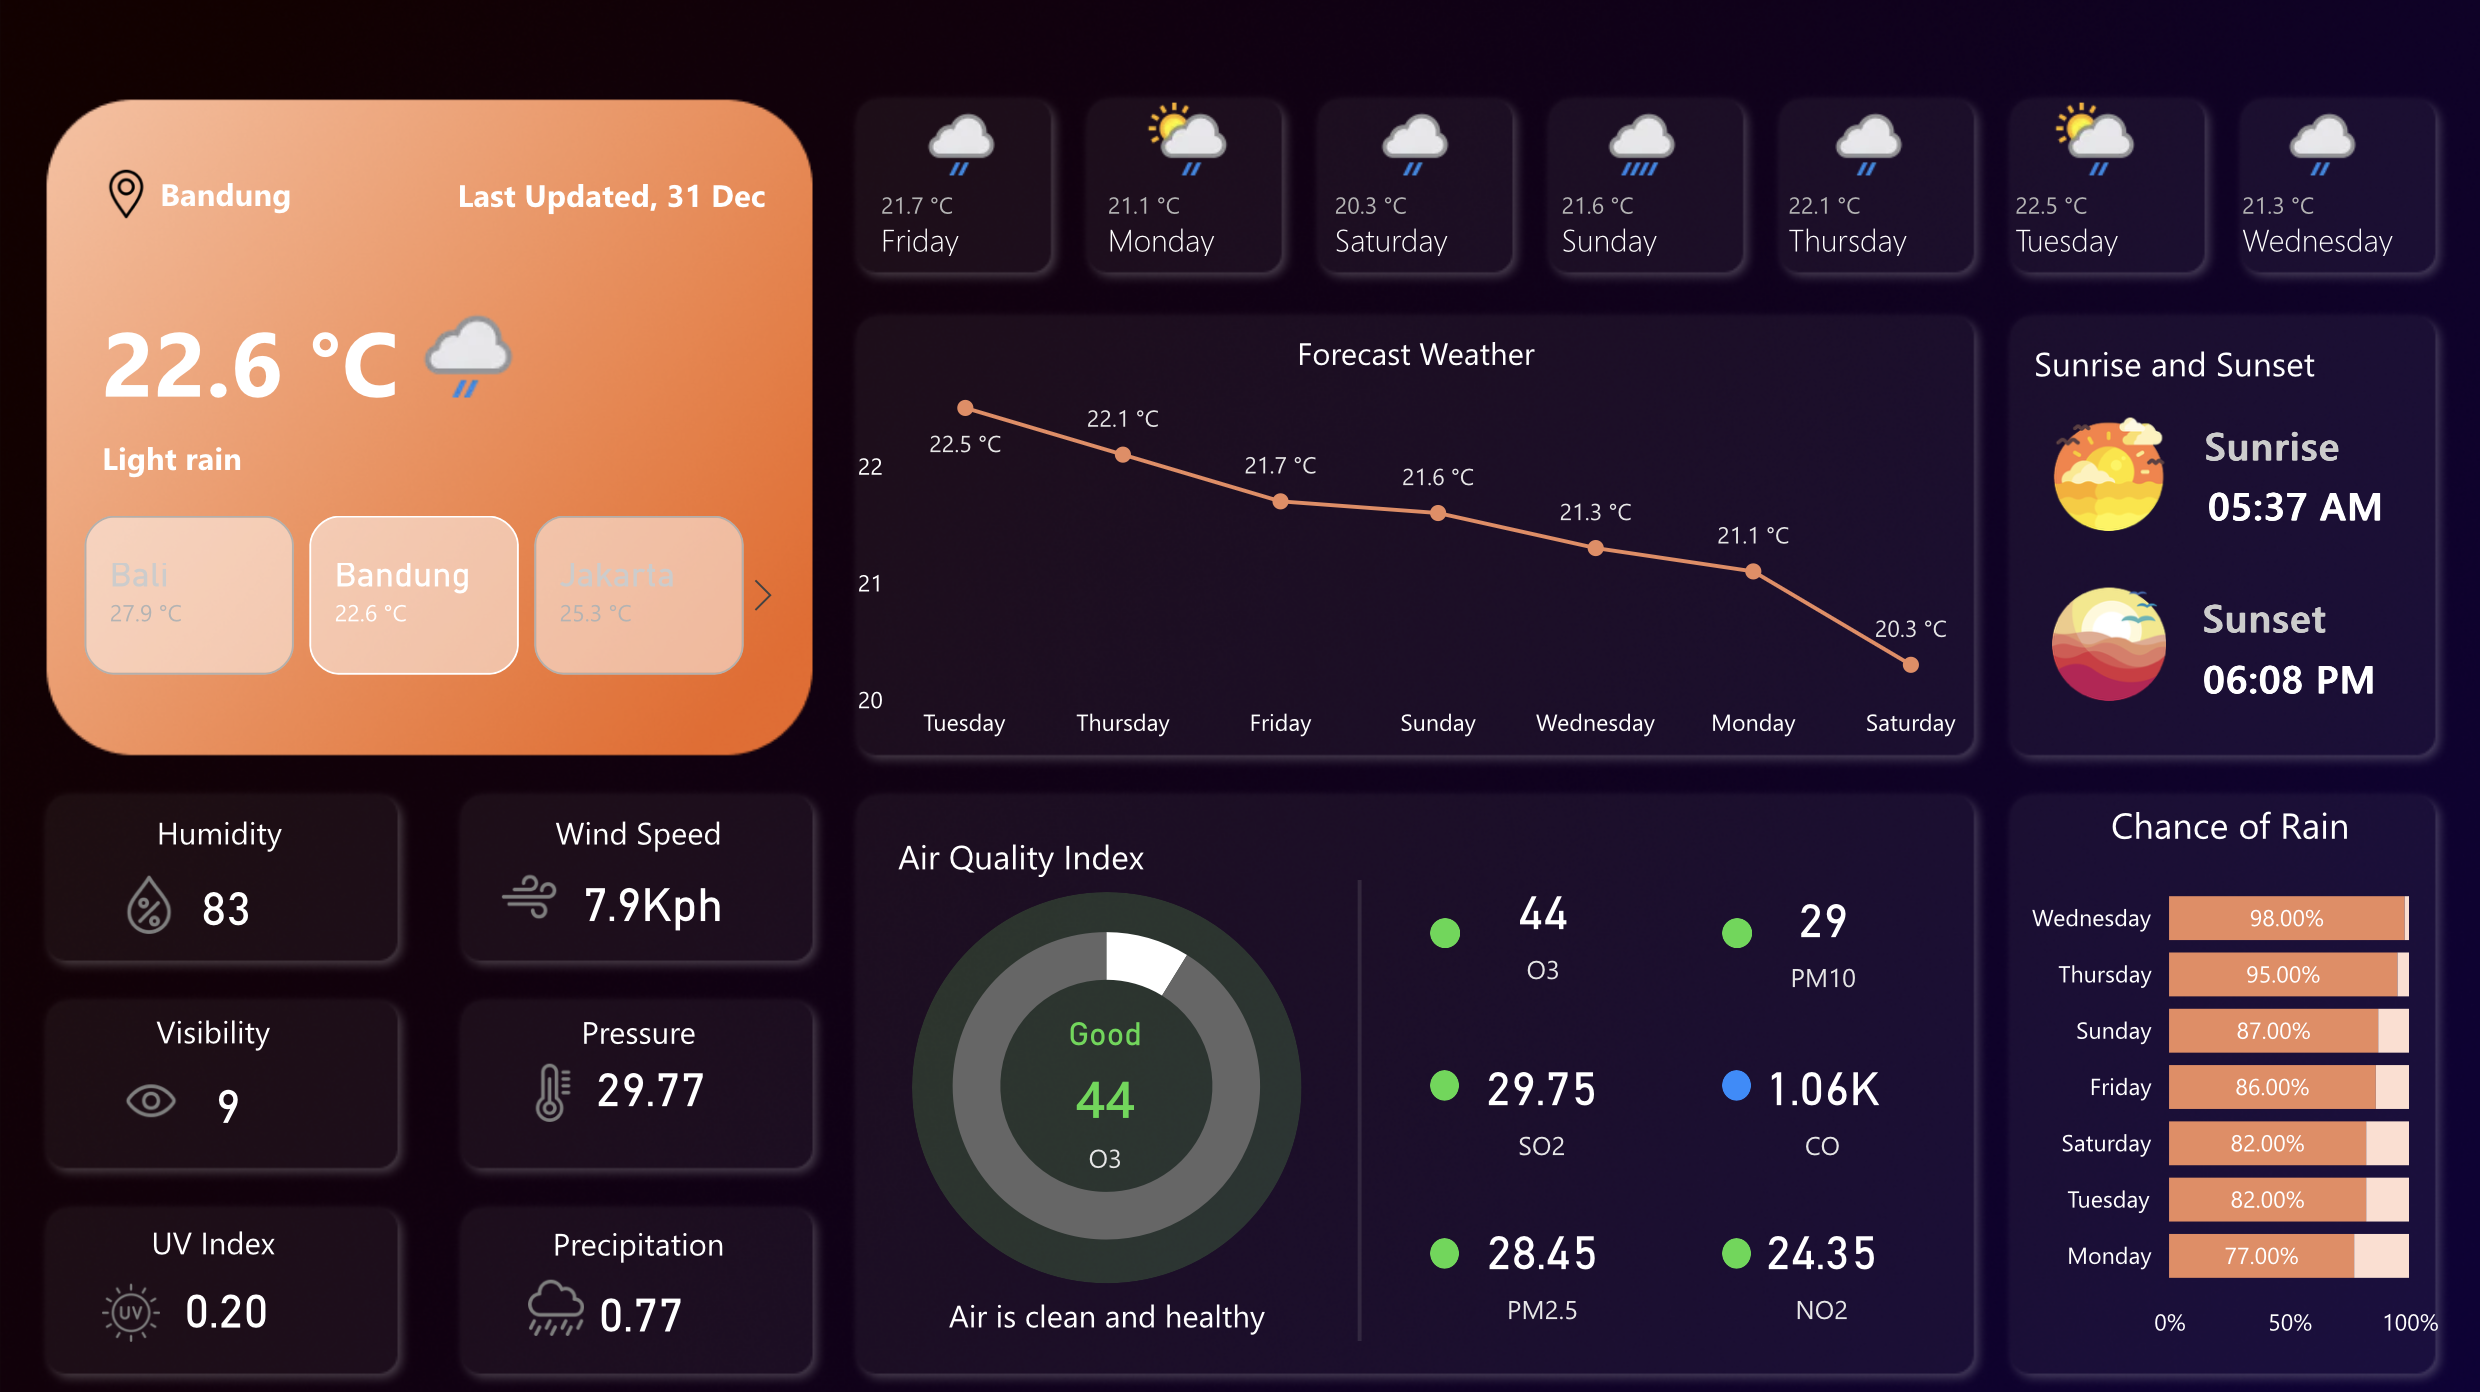

The page's visual inventory and layout, read from the dashboard file:
{"tool":"powerbi","page":{"name":"Page 1","canvas":[1280,720],"ordinal":0},"visuals":[{"type":"advancedSlicerVisual","fields":{"Values":["Location.location.name"],"Label":["_Measures.Curr_temp_C"]},"box":[18.6,261.4,390,92.9],"z":0},{"type":"shape","box":[52.5,149.3,373.3,71.7],"z":1000},{"type":"shape","box":[52.5,209.3,383.3,53.3],"z":2000},{"type":"shape","box":[82.5,73.8,155,52.5],"z":3000},{"type":"shape","box":[207.5,73.8,187.5,53.8],"z":4000},{"type":"shape","box":[18.2,410.9,189.1,37.3],"z":5000},{"type":"shape","box":[18.2,511.8,182.7,40],"z":6000},{"type":"shape","box":[18.2,620,182.7,40.9],"z":7000},{"type":"shape","box":[239.1,411.8,180,34.5],"z":8000},{"type":"shape","box":[239.1,519.1,180,26.4],"z":9000},{"type":"shape","box":[239.1,623.6,180,33.6],"z":10000},{"type":"card","fields":{"Values":["Sum(Current.current.humidity)"]},"box":[52.8,442.2,128.3,50.6],"z":11000},{"type":"card","fields":{"Values":["_Measures.Wind_Speed"]},"box":[270,442.7,132.7,46.4],"z":12000},{"type":"card","fields":{"Values":["Sum(Current.current.vis_km)"]},"box":[52.8,542.2,130,54.4],"z":13000},{"type":"card","fields":{"Values":["Sum(Current.current.uv)"]},"box":[52.8,654.4,128.3,42.8],"z":14000},{"type":"card","fields":{"Values":["Sum(Current.current.pressure_in)"]},"box":[264.6,538.2,142.7,45.5],"z":15000},{"type":"card","fields":{"Values":["Sum(Current.current.precip_mm)"]},"box":[258.8,657.5,143.1,40.6],"z":16000},{"type":"advancedSlicerVisual","fields":{"Values":["Forecast_Day.Day_Name"]},"box":[436.7,40,826.7,110],"z":17000},{"type":"lineChart","title":"Forecast Weather","fields":{"Category":["Forecast_Day.Day_Name"],"Y":["Sum(Forecast_Day.forecast.forecastday.day.avgtemp_c)"]},"box":[437.1,171.4,585.7,220],"z":18000},{"type":"shape","box":[1048.6,167.1,191.4,38.6],"z":19000},{"type":"shape","box":[1131.1,223.8,104.6,72.3],"z":20000},{"type":"shape","box":[1129.2,313.9,102.3,70.8],"z":21000},{"type":"shape","box":[1135.4,281.5,112.3,71.5],"z":22000},{"type":"shape","box":[1136.5,193.1,113.1,71.5],"z":23000},{"type":"hundredPercentStackedBarChart","title":"Chance of Rain","fields":{"Y":["Sum(Forecast_Day.forecast.forecastday.day.daily_chance_of_rain)","Current.Left_value_Rain"],"Category":["Forecast_Day.Day_Name"]},"box":[1037.5,412.5,225,287.5],"z":24000},{"type":"shape","box":[463,422,191,38],"z":25000},{"type":"card","fields":{"Values":["Sum(Current.current.air_quality.pm10)"]},"box":[906.3,445.4,67.3,74.5],"z":26000},{"type":"card","fields":{"Values":["Sum(Current.current.air_quality.co)"]},"box":[896.3,531.8,87.3,74.5],"z":27000},{"type":"card","fields":{"Values":["Sum(Current.current.air_quality.no2)"]},"box":[896.3,617.3,86.4,74.5],"z":28000},{"type":"card","fields":{"Values":["Sum(Current.current.air_quality.o3)"]},"box":[761.8,441.8,67.3,74.5],"z":29000},{"type":"card","fields":{"Values":["Sum(Current.current.air_quality.so2)"]},"box":[756.3,531.8,78.2,74.5],"z":30000},{"type":"card","fields":{"Values":["Sum(Current.current.air_quality.pm2_5)"]},"box":[759,617.3,72.7,74.5],"z":31000},{"type":"shape","box":[888.1,473.1,15.6,15.6],"z":32000},{"type":"shape","box":[888.2,551.8,15,15.9],"z":33000},{"type":"shape","box":[888.2,638.2,15,15.9],"z":34000},{"type":"shape","box":[470,460,200.9,201.8],"z":35000},{"type":"shape","box":[737,473.7,15.6,15.6],"z":36000},{"type":"shape","box":[737.1,552.4,15,15.9],"z":37000},{"type":"shape","box":[737.1,638.7,15,15.9],"z":38000},{"type":"shape","box":[665.5,453.6,71.8,238.2],"z":39000},{"type":"card","fields":{"Values":["Sum(Current.current.air_quality.o3)"]},"box":[524.5,526.4,90,85.5],"z":40000},{"type":"donutChart","fields":{"Y":["Sum(Current.current.air_quality.o3)","_Measures.Left_value_O3"]},"box":[445.4,456.4,250,208.2],"z":41000},{"type":"shape","box":[447.3,659.1,246.4,38.2],"z":42000},{"type":"image","box":[271.8,654.5,29.1,39.1],"z":43000},{"type":"image","box":[270,543.6,30,40],"z":44000},{"type":"image","box":[270,442.7,30,40],"z":45000},{"type":"image","box":[61.8,446.4,30,40],"z":46000},{"type":"image","box":[62.7,548.2,30,40],"z":47000},{"type":"image","box":[52.7,657.3,30,40],"z":48000},{"type":"image","box":[52.5,83.1,25,32.5],"z":49000},{"type":"cardVisual","fields":{"Data":["Min(Current.current.condition.icon)"]},"box":[180.6,131.8,113.5,92.9],"z":49001}]}

Visuals, with their boxes in screenshot pixels (x1, y1, x2, y2), scaled from the page's 1280x720 canvas onto the 2480x1392 screenshot:
advancedSlicerVisual - Location.location.name x _Measures.Curr_temp_C: x1=36, y1=505, x2=792, y2=685
shape: x1=102, y1=289, x2=825, y2=427
shape: x1=102, y1=405, x2=844, y2=508
shape: x1=160, y1=143, x2=460, y2=244
shape: x1=402, y1=143, x2=765, y2=247
shape: x1=35, y1=794, x2=402, y2=867
shape: x1=35, y1=989, x2=389, y2=1067
shape: x1=35, y1=1199, x2=389, y2=1278
shape: x1=463, y1=796, x2=812, y2=863
shape: x1=463, y1=1004, x2=812, y2=1055
shape: x1=463, y1=1206, x2=812, y2=1271
card - Sum(Current.current.humidity): x1=102, y1=855, x2=351, y2=953
card - _Measures.Wind_Speed: x1=523, y1=856, x2=780, y2=946
card - Sum(Current.current.vis_km): x1=102, y1=1048, x2=354, y2=1153
card - Sum(Current.current.uv): x1=102, y1=1265, x2=351, y2=1348
card - Sum(Current.current.pressure_in): x1=513, y1=1041, x2=789, y2=1128
card - Sum(Current.current.precip_mm): x1=501, y1=1271, x2=779, y2=1350
advancedSlicerVisual - Forecast_Day.Day_Name: x1=846, y1=77, x2=2448, y2=290
"Forecast Weather" lineChart: x1=847, y1=331, x2=1982, y2=757
shape: x1=2032, y1=323, x2=2402, y2=398
shape: x1=2192, y1=433, x2=2394, y2=572
shape: x1=2188, y1=607, x2=2386, y2=744
shape: x1=2200, y1=544, x2=2417, y2=682
shape: x1=2202, y1=373, x2=2421, y2=512
"Chance of Rain" hundredPercentStackedBarChart: x1=2010, y1=798, x2=2446, y2=1353
shape: x1=897, y1=816, x2=1267, y2=889
card - Sum(Current.current.air_quality.pm10): x1=1756, y1=861, x2=1886, y2=1005
card - Sum(Current.current.air_quality.co): x1=1737, y1=1028, x2=1906, y2=1172
card - Sum(Current.current.air_quality.no2): x1=1737, y1=1193, x2=1904, y2=1337
card - Sum(Current.current.air_quality.o3): x1=1476, y1=854, x2=1606, y2=998
card - Sum(Current.current.air_quality.so2): x1=1465, y1=1028, x2=1617, y2=1172
card - Sum(Current.current.air_quality.pm2_5): x1=1471, y1=1193, x2=1611, y2=1337
shape: x1=1721, y1=915, x2=1751, y2=945
shape: x1=1721, y1=1067, x2=1750, y2=1098
shape: x1=1721, y1=1234, x2=1750, y2=1265
shape: x1=911, y1=889, x2=1300, y2=1279
shape: x1=1428, y1=916, x2=1458, y2=946
shape: x1=1428, y1=1068, x2=1457, y2=1099
shape: x1=1428, y1=1235, x2=1457, y2=1266
shape: x1=1289, y1=877, x2=1429, y2=1337
card - Sum(Current.current.air_quality.o3): x1=1016, y1=1018, x2=1191, y2=1183
donutChart - Sum(Current.current.air_quality.o3) x _Measures.Left_value_O3: x1=863, y1=882, x2=1347, y2=1285
shape: x1=867, y1=1274, x2=1344, y2=1348
image: x1=527, y1=1265, x2=583, y2=1341
image: x1=523, y1=1051, x2=581, y2=1128
image: x1=523, y1=856, x2=581, y2=933
image: x1=120, y1=863, x2=178, y2=940
image: x1=121, y1=1060, x2=180, y2=1137
image: x1=102, y1=1271, x2=160, y2=1348
image: x1=102, y1=161, x2=150, y2=223
cardVisual - Min(Current.current.condition.icon): x1=350, y1=255, x2=570, y2=434
